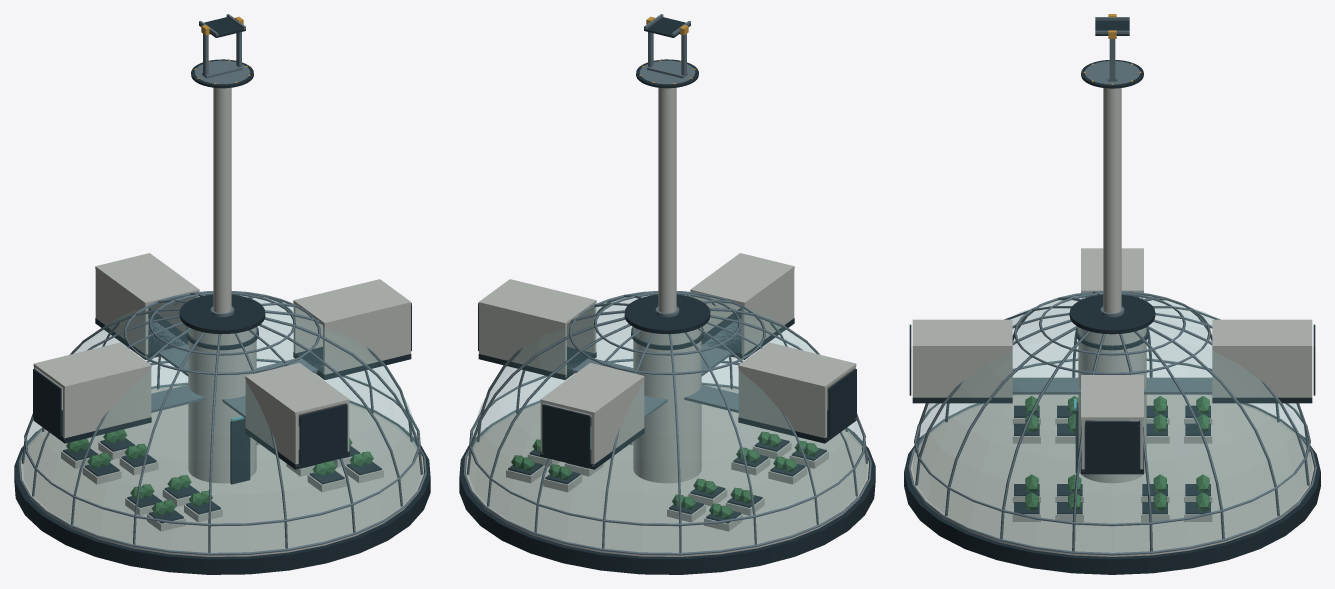
The model's file is biosphere_d0_lod1.glb.
The picture shows the model from 3 angles, left to right: view 1: azimuth 30°, elevation 25°; view 2: azimuth 150°, elevation 25°; view 3: azimuth 270°, elevation 25°; orthographic projection.
Parts seen in each view (by area): view 1: BODY, SHELL, PORT_CAP_N, PORT_CAP_W, FORK, CRADLE; view 2: BODY, SHELL, PORT_CAP_S, PORT_CAP_W, FORK, CRADLE; view 3: BODY, SHELL, PORT_CAP_E, CRADLE.
Boxes of the visible parts, box(x1,y1,x2,y2) form: BODY: box(14, 59, 430, 574); SHELL: box(23, 295, 421, 552); PORT_CAP_N: box(299, 404, 347, 463); PORT_CAP_W: box(33, 369, 61, 436); FORK: box(201, 16, 243, 78); CRADLE: box(199, 14, 245, 37); BODY: box(459, 59, 875, 574); SHELL: box(468, 295, 866, 552); PORT_CAP_S: box(542, 404, 590, 463); PORT_CAP_W: box(828, 369, 856, 436); FORK: box(646, 16, 688, 78); CRADLE: box(644, 14, 690, 37); BODY: box(904, 60, 1320, 574); SHELL: box(913, 295, 1311, 552); PORT_CAP_E: box(1085, 421, 1139, 469); CRADLE: box(1095, 17, 1129, 35).
Size of the model in its own units: 29.2 by 35.85 by 29.2.
